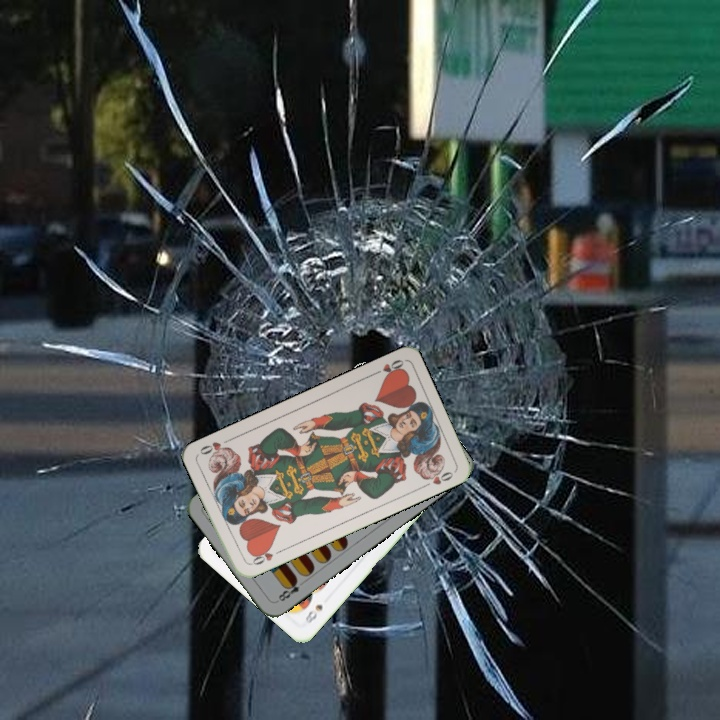E8: (272, 575, 308, 605)
HO: (367, 355, 406, 380), (246, 543, 284, 568)
S8: (301, 600, 326, 626)
